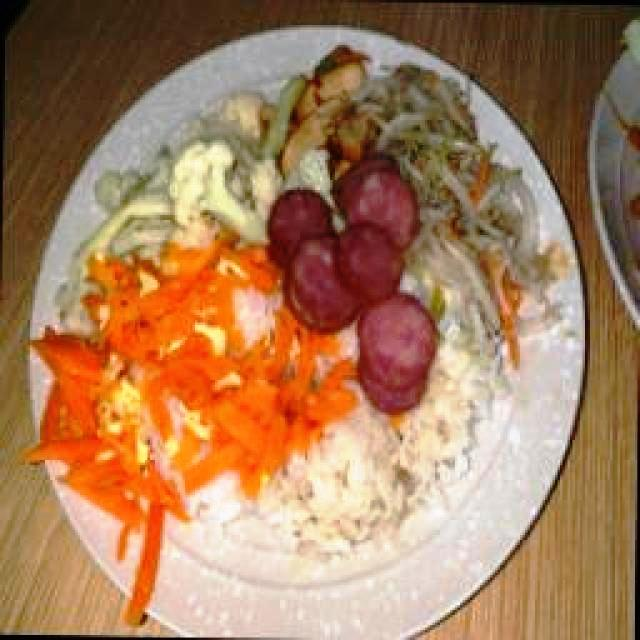carrot_eggs: (22, 250, 226, 622)
chinese_sausage: (265, 153, 438, 415)
mung_bean_sprouts: (371, 66, 465, 164), (447, 162, 543, 221)
rice: (337, 417, 467, 529)
